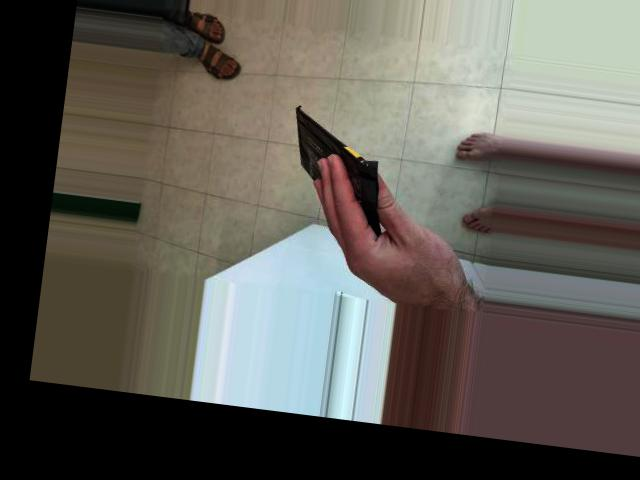chocolate: (226, 28, 380, 161)
